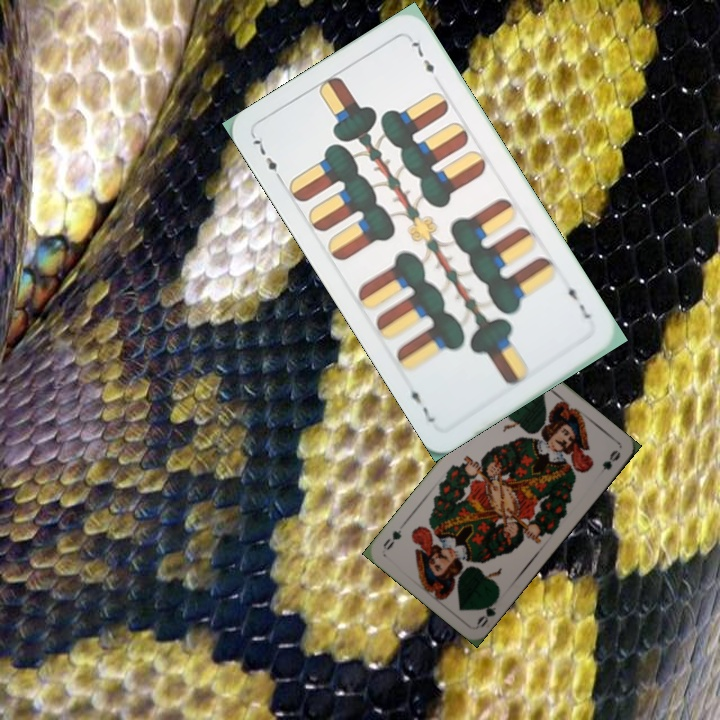E7: (248, 131, 286, 185), (563, 277, 594, 322)
GO: (473, 591, 501, 630)
